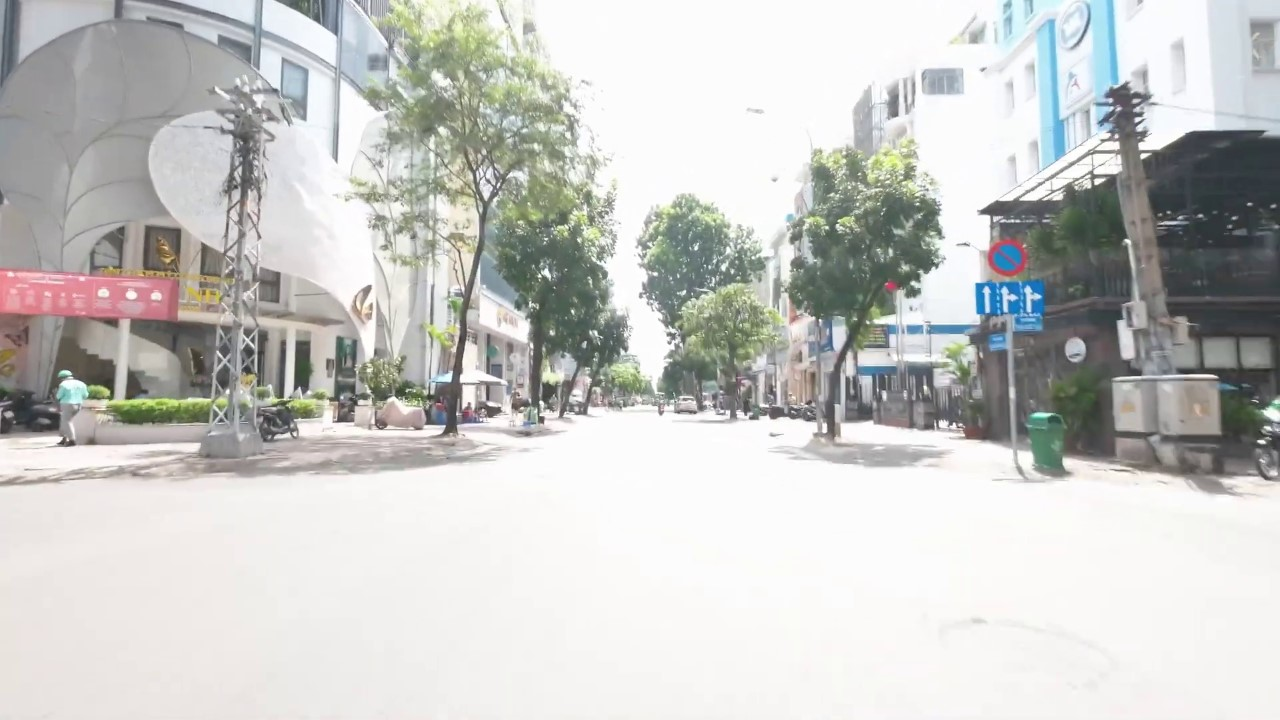cam_do_xe: (988, 239, 1028, 277)
